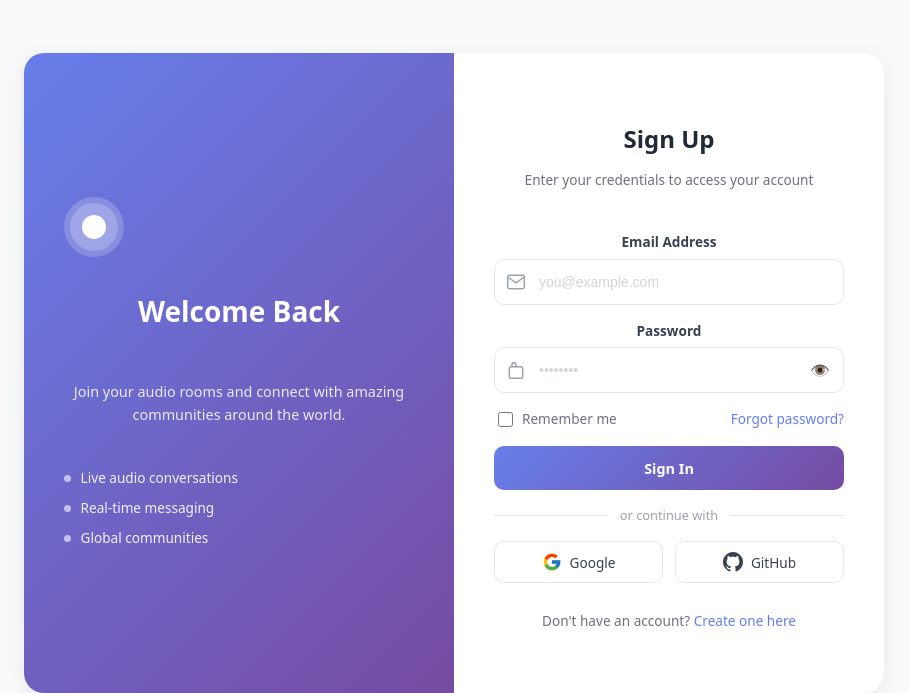
Test: <login /> › if return error with incorrect if email not available
Type "Poiuytre101" into the password field labelled "Password" at (669, 370), box [494,347,844,393]
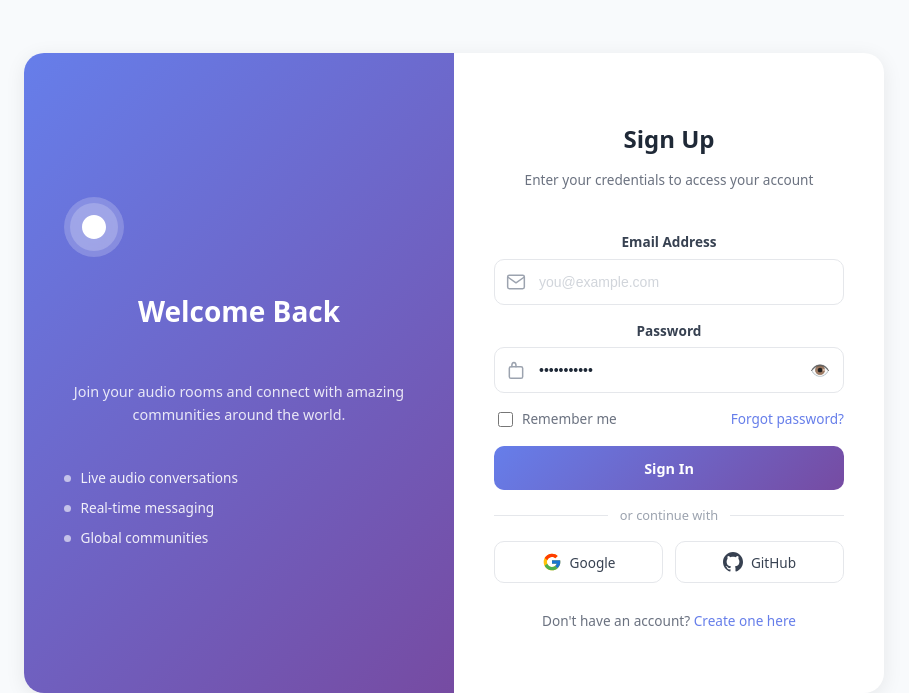
Click the button with test id "createaccount" at (669, 468), box [494,446,844,490]
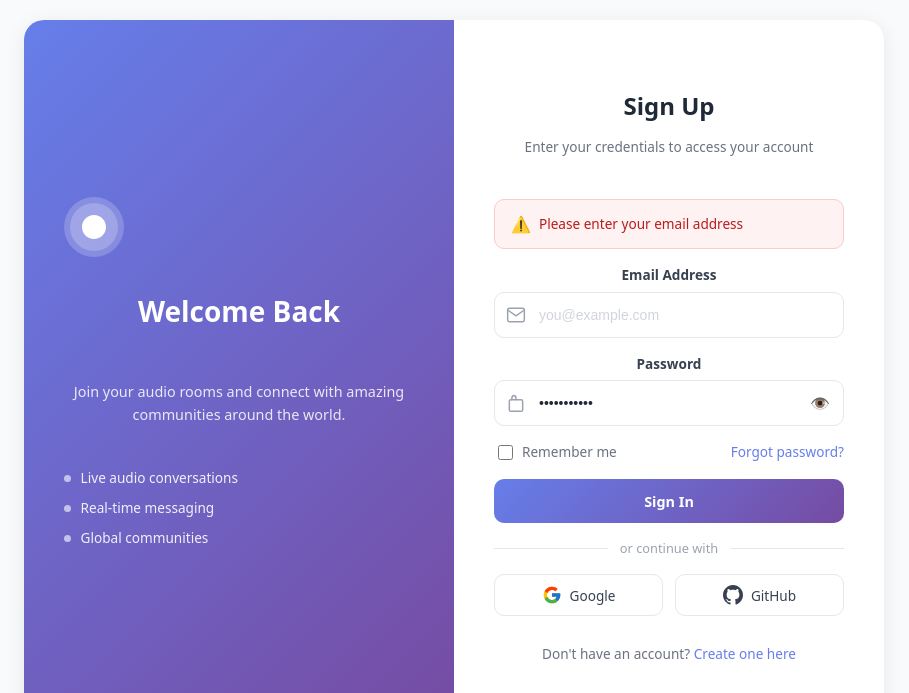
Check: the text with test id "loginerr" reads "Please enter your email address", box [539,214,743,233]
